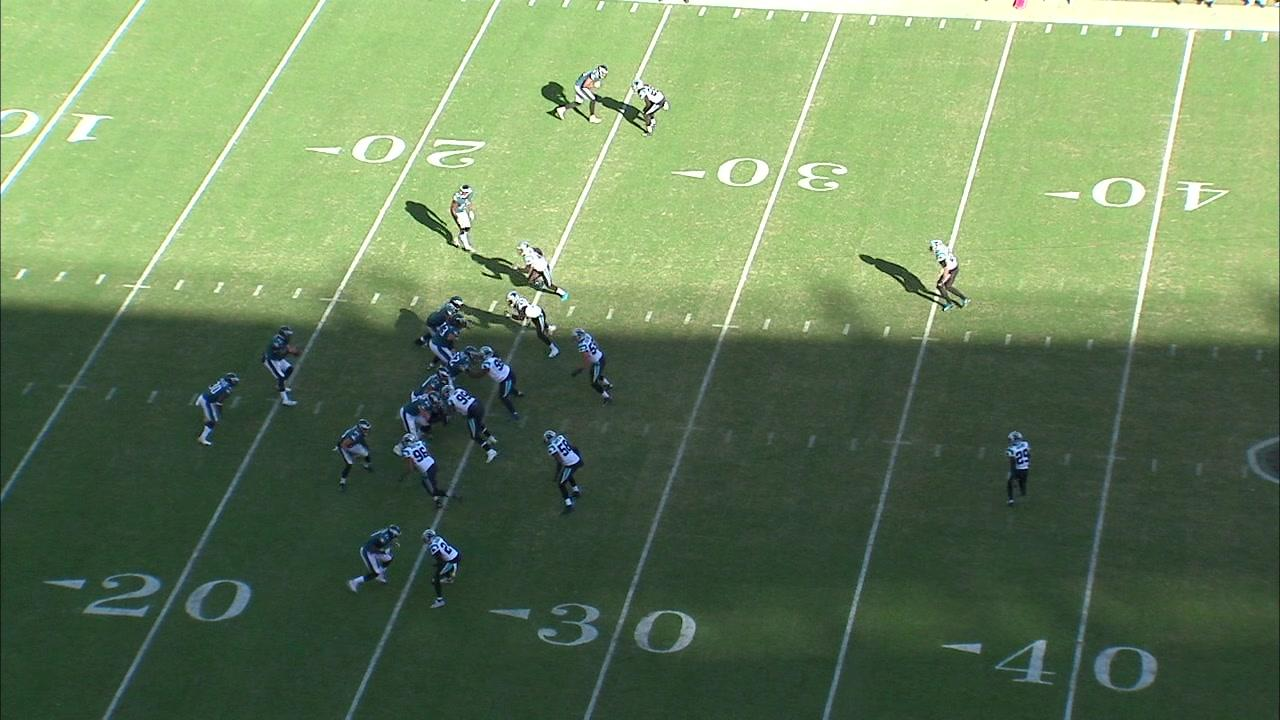defense: (393, 432, 465, 512), (438, 382, 499, 466), (463, 344, 527, 422), (541, 429, 588, 518), (502, 289, 560, 360), (568, 325, 616, 409), (509, 240, 570, 303), (926, 237, 974, 314), (421, 527, 463, 611), (1001, 429, 1035, 508), (630, 77, 671, 140)
oline: (390, 390, 452, 460), (411, 294, 473, 351), (424, 313, 472, 374), (409, 367, 457, 407), (439, 343, 489, 380)
qb: (259, 323, 305, 409)
skill: (189, 368, 246, 454), (345, 523, 404, 596), (331, 417, 378, 497), (553, 63, 611, 126), (447, 183, 480, 255)
